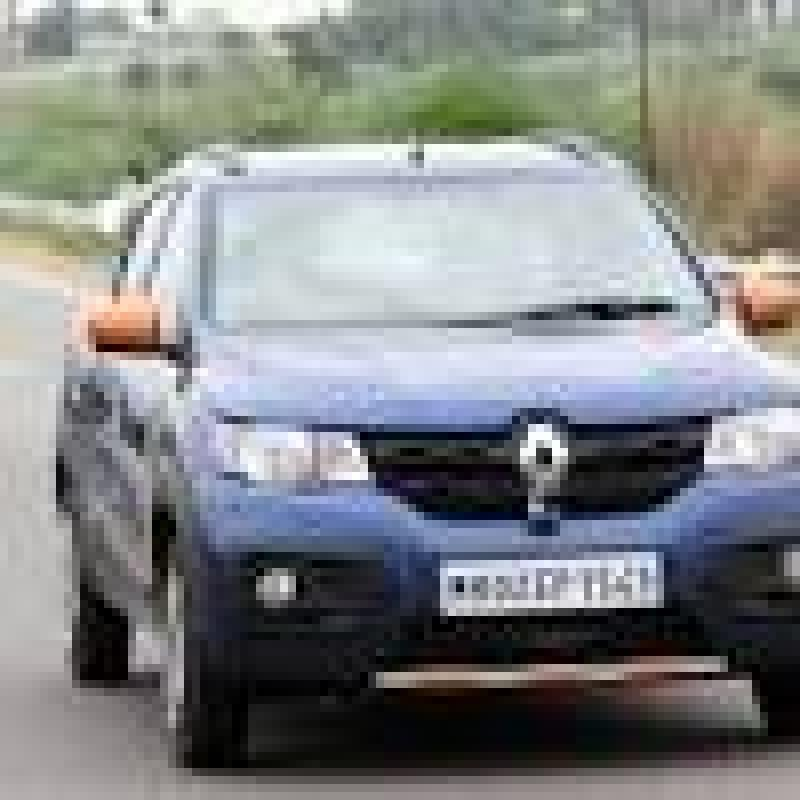car: (76, 109, 800, 752)
